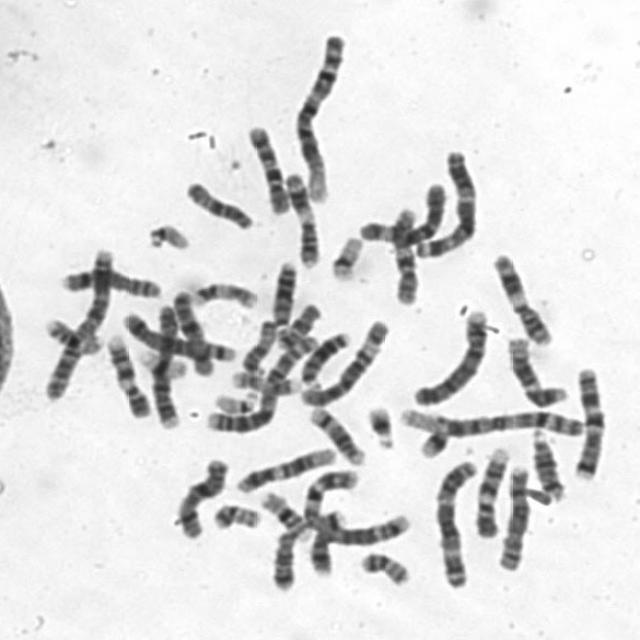A1: (288, 25, 351, 207), (392, 398, 588, 440)
A2: (37, 239, 118, 402), (199, 326, 320, 435)
A3: (411, 143, 482, 259), (428, 452, 481, 590)
B4: (406, 302, 491, 408), (146, 297, 182, 431)
B5: (115, 304, 239, 364), (298, 502, 412, 546)
C10: (241, 117, 293, 215), (386, 200, 422, 306)
C11: (486, 245, 556, 348), (278, 164, 322, 270)
C12: (230, 439, 339, 495), (501, 329, 571, 408)
C6: (294, 311, 393, 408), (353, 175, 451, 246)
C7: (567, 359, 608, 482), (296, 461, 362, 535)
C8: (491, 458, 534, 572), (53, 262, 163, 300)
C9: (100, 326, 152, 419), (469, 440, 513, 540)
D13: (294, 324, 354, 388), (265, 254, 300, 328)
D14: (302, 399, 368, 467), (525, 423, 569, 502)
D15: (178, 174, 256, 231), (235, 314, 279, 375)
E16: (254, 484, 312, 541), (37, 309, 105, 357)
E17: (184, 274, 260, 310), (224, 363, 301, 397)
E18: (270, 296, 324, 350), (265, 522, 301, 592)
F19: (325, 228, 366, 283), (133, 344, 190, 379)
F20: (354, 544, 414, 588), (206, 496, 264, 532)
G21: (361, 398, 398, 451), (412, 417, 454, 459)
G22: (140, 215, 193, 252), (207, 384, 260, 416)
X: (167, 451, 231, 540), (168, 282, 215, 378)
